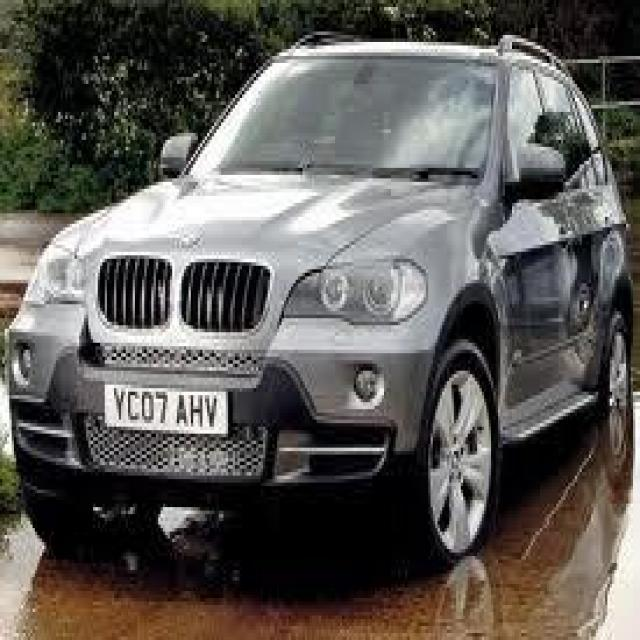car: (2, 28, 631, 563)
